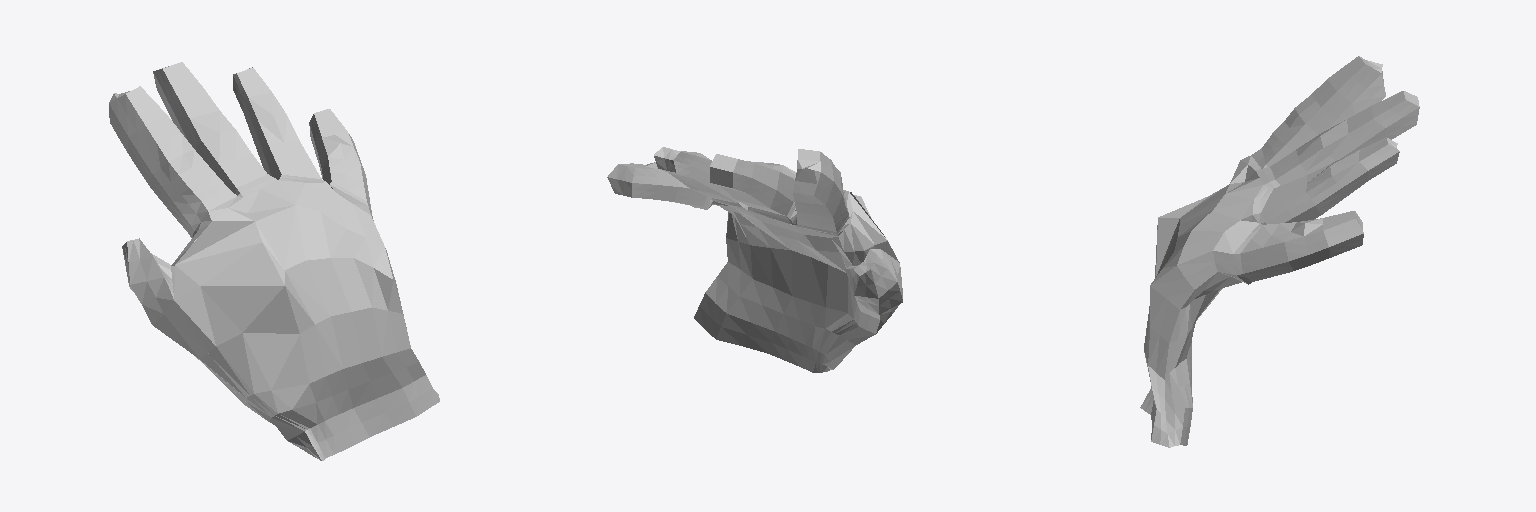
Rendered from flexion0028.obj.
The picture shows the model from 3 angles: view 1: azimuth 30°, elevation 25°; view 2: azimuth 150°, elevation 25°; view 3: azimuth 270°, elevation 25°; orthographic projection.
Parts seen in each view (by area): view 1: Hand; view 2: Hand; view 3: Hand.
Boxes of the visible parts, <box> form: Hand: <box>109,62,439,460</box>; Hand: <box>607,147,902,372</box>; Hand: <box>1140,56,1419,447</box>.
Bounding box in the file's own units: 3.27 × 3.82 × 3.09.